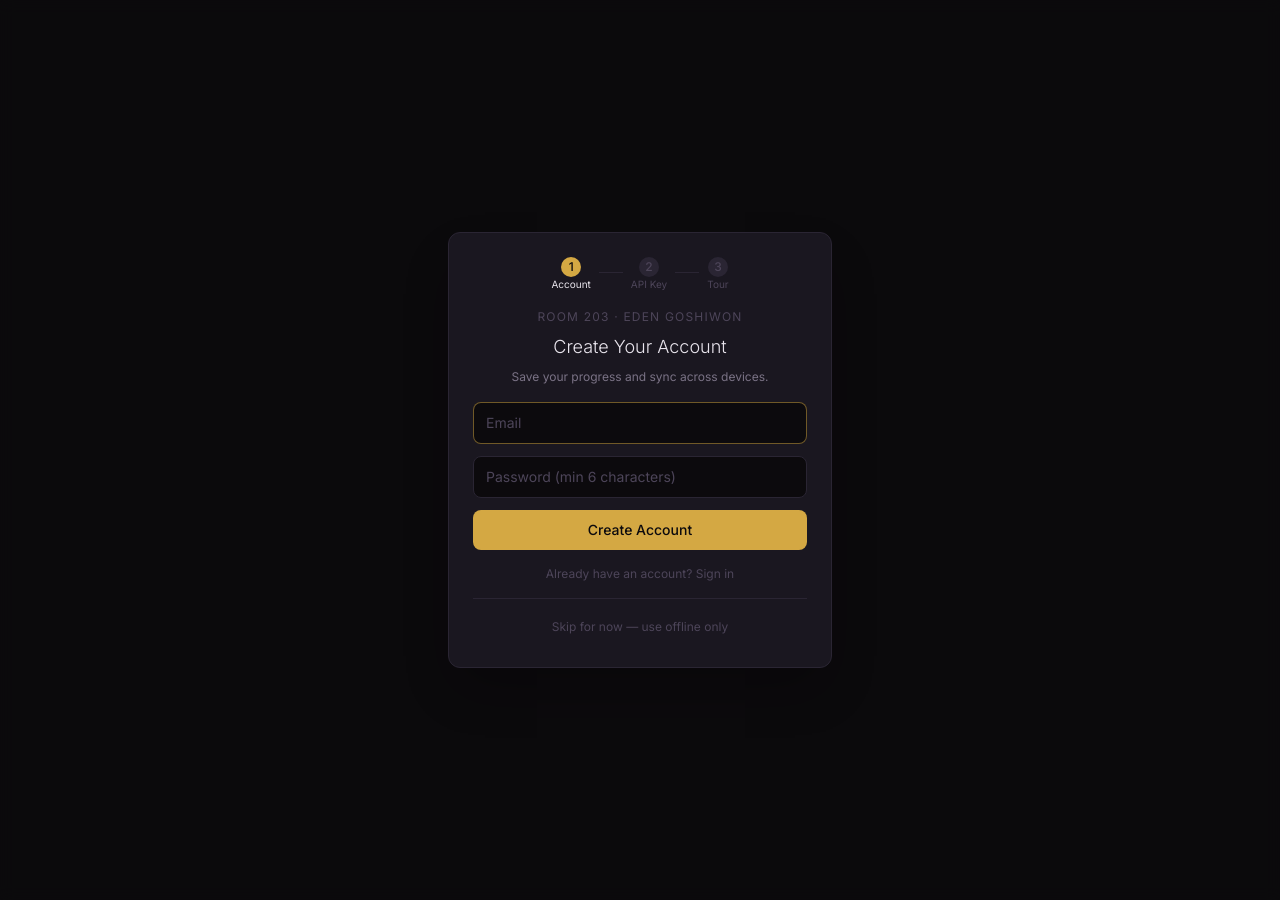
Test: WelcomeWizard — auth available › toggle back to sign up mode
Click the button "Already have an account? Sign in" at (640, 574), box [473, 566, 807, 582]
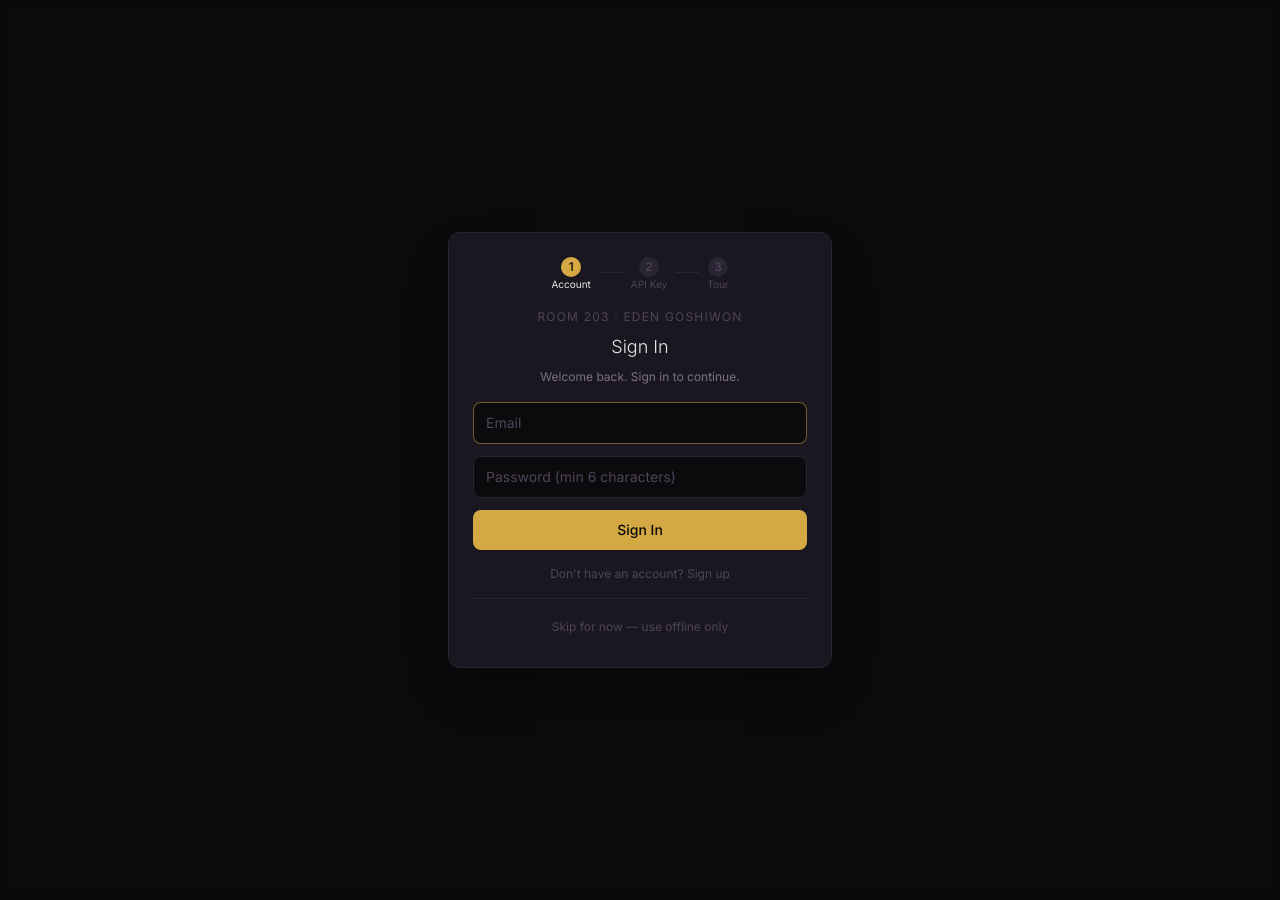
Click the button "Don't have an account? Sign up" at (640, 574), box [473, 566, 807, 582]
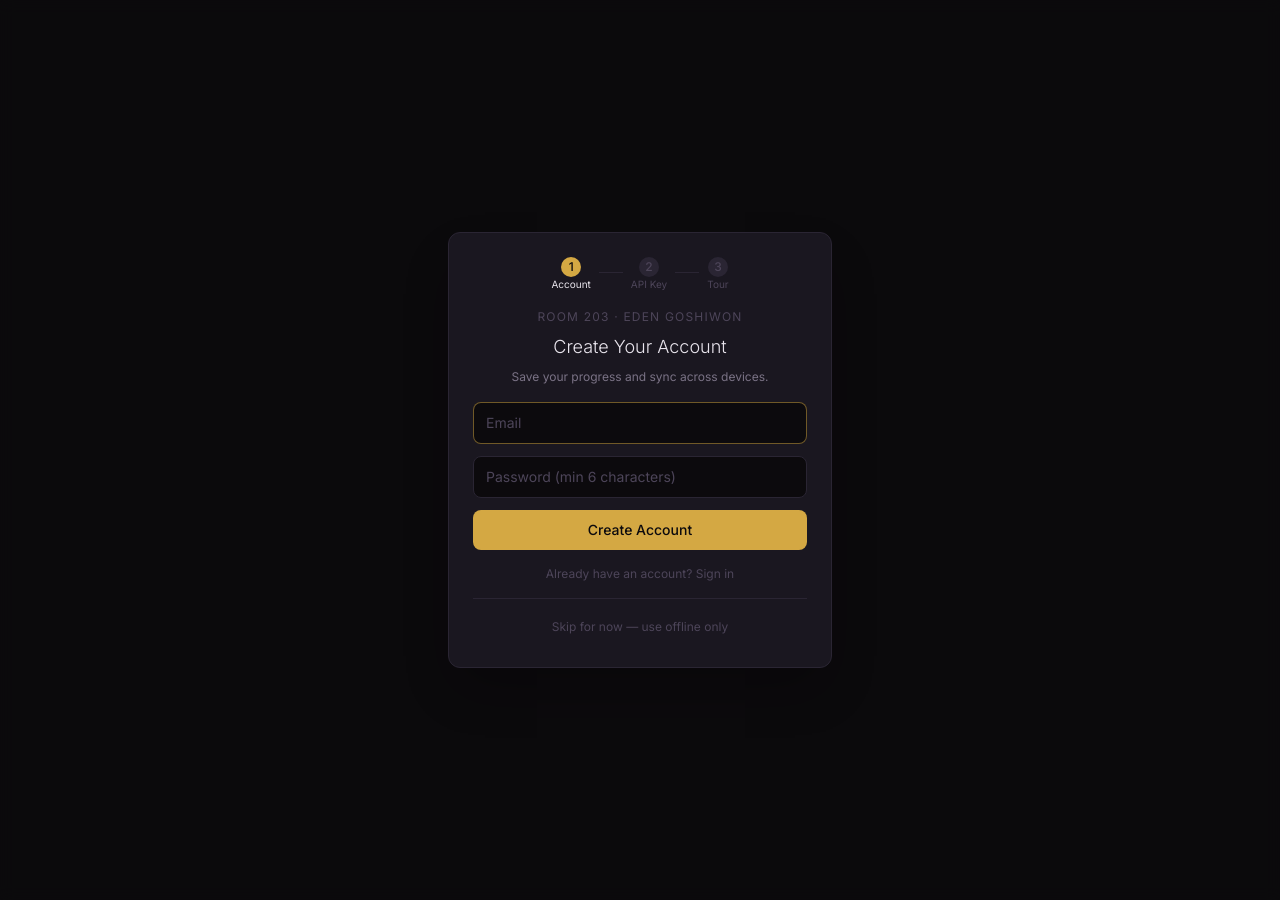
Expected: the heading "Create Your Account" is shown, [553, 336, 727, 357]
